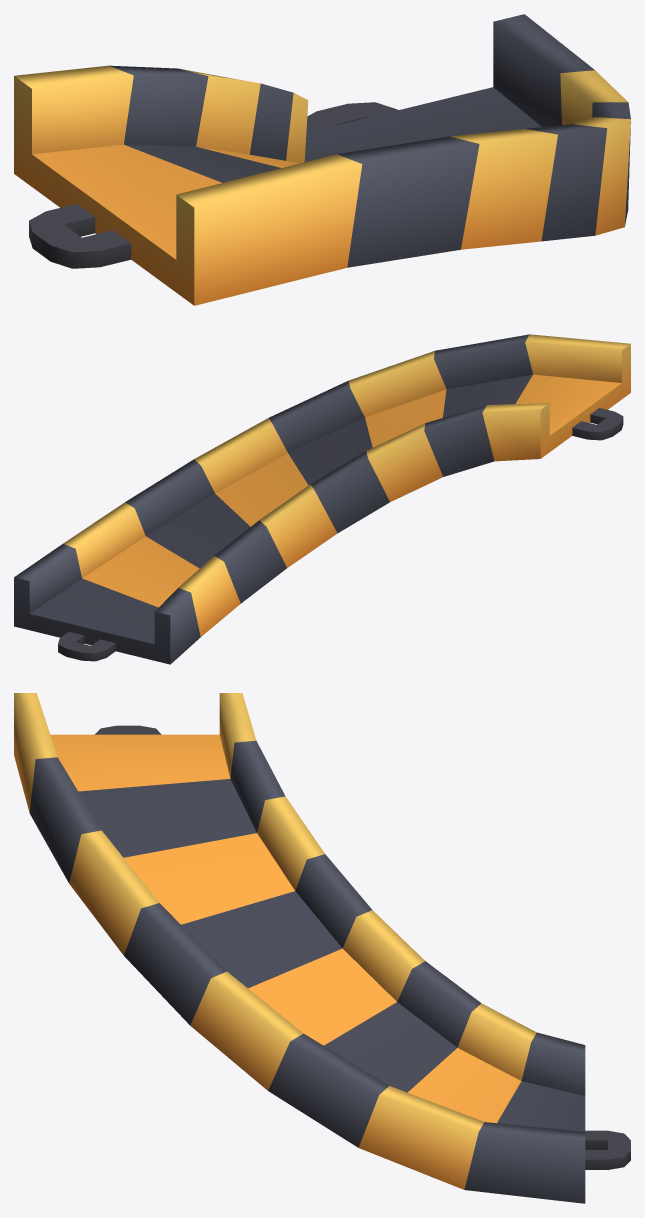
Rendered from track-striped-narrow-corner-small-ramp.fbx.
3 views of the same model, one above another, from view 1: azimuth 30°, elevation 25°; view 2: azimuth 150°, elevation 25°; view 3: azimuth 270°, elevation 25° (orthographic). The views are drawn at different scales.
Parts seen in each view (by area): view 1: track-striped-narrow-corner-small-ramp; view 2: track-striped-narrow-corner-small-ramp; view 3: track-striped-narrow-corner-small-ramp.
Boxes of the visible parts, x1,y1,x2,y2 form: track-striped-narrow-corner-small-ramp: [14, 14, 630, 305]; track-striped-narrow-corner-small-ramp: [14, 334, 630, 664]; track-striped-narrow-corner-small-ramp: [14, 693, 630, 1203].
Size of the model in its own units: 270 by 130 by 270.
